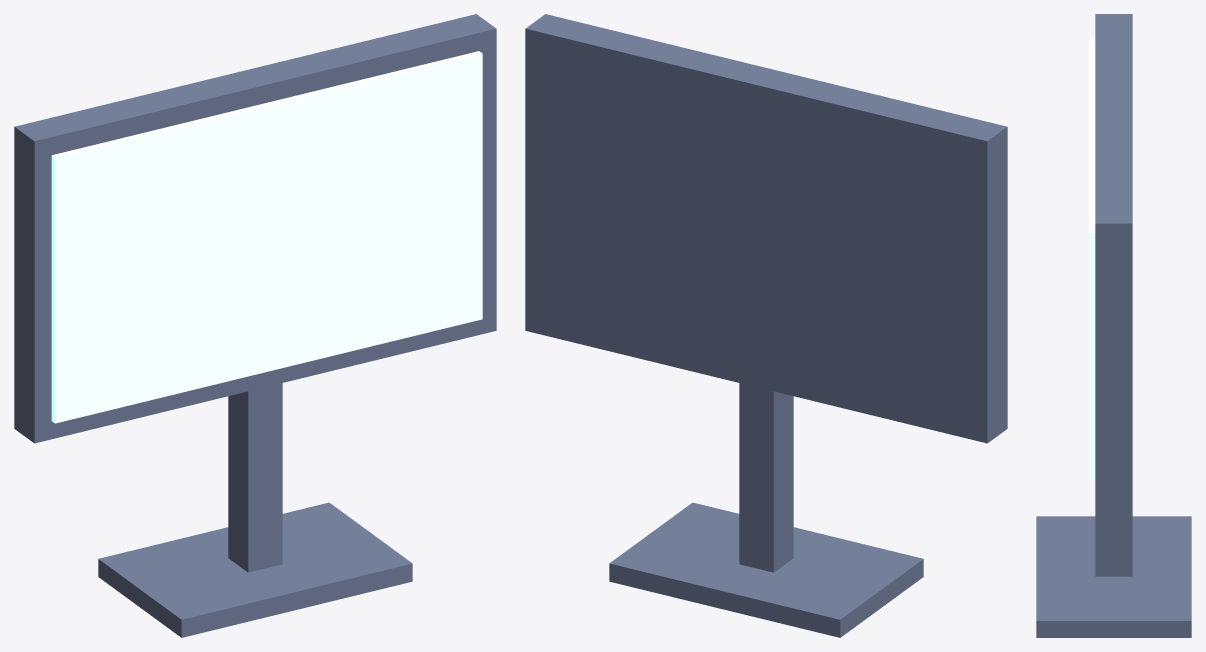
The model's file is computer9.glb.
The picture shows the model from 3 angles, left to right: view 1: azimuth 30°, elevation 25°; view 2: azimuth 150°, elevation 25°; view 3: azimuth 270°, elevation 25°; orthographic projection. The views are drawn at different scales.
Size of the model in its own units: 0.8 by 0.83 by 0.25.
